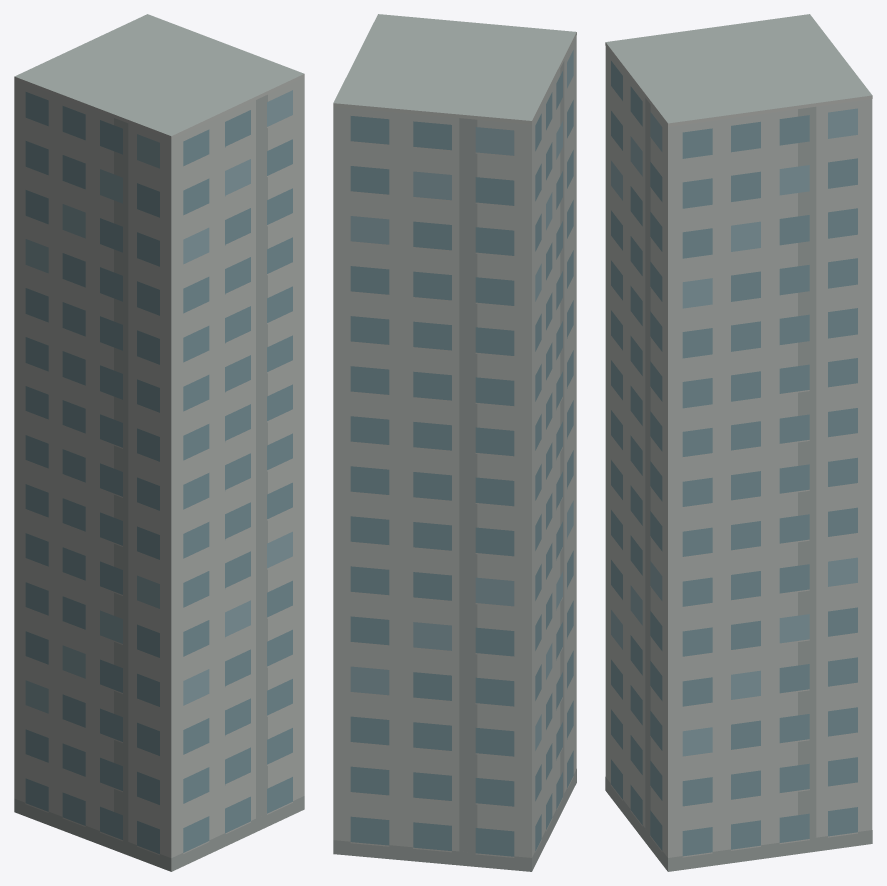
The model's file is residential-ee5fbee7-f171-4678-8c24-c3f2407208e1.glb.
The picture shows the model from 3 angles, left to right: view 1: azimuth 30°, elevation 25°; view 2: azimuth 150°, elevation 25°; view 3: azimuth 270°, elevation 25°; orthographic projection. The views are drawn at different scales.
Parts seen in each view (by area): view 1: residential-ee5fbee7-f171-4678-8c24-c3f2407208e1.tmp; view 2: residential-ee5fbee7-f171-4678-8c24-c3f2407208e1.tmp; view 3: residential-ee5fbee7-f171-4678-8c24-c3f2407208e1.tmp.
Boxes of the visible parts, x1,y1,x2,y2 form: residential-ee5fbee7-f171-4678-8c24-c3f2407208e1.tmp: [14, 14, 304, 871]; residential-ee5fbee7-f171-4678-8c24-c3f2407208e1.tmp: [333, 14, 576, 871]; residential-ee5fbee7-f171-4678-8c24-c3f2407208e1.tmp: [605, 14, 872, 871].
Size of the model in its own units: 16 by 51 by 16.5.
